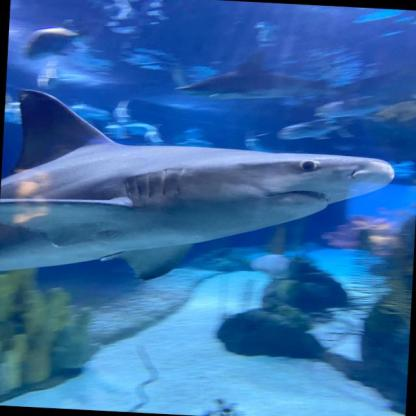fish: (21, 23, 88, 65)
shark: (0, 86, 400, 294), (173, 50, 396, 111)
